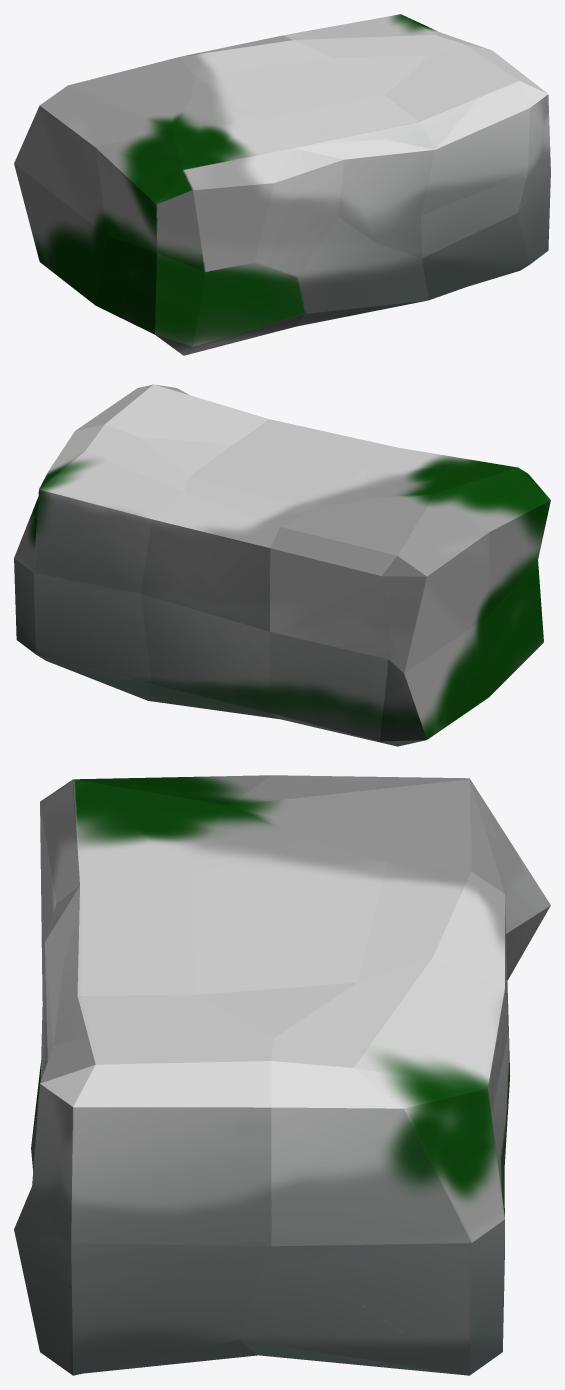
File: Prieda.fbx
3 renders of one model, top to bottom at view 1: azimuth 30°, elevation 25°; view 2: azimuth 150°, elevation 25°; view 3: azimuth 270°, elevation 25°, orthographic. The views are drawn at different scales.
Parts seen in each view (by area): view 1: Cubo.016; view 2: Cubo.016; view 3: Cubo.016.
Boxes of the visible parts, box(x1,y1,x2,y2) form: Cubo.016: box(14, 14, 550, 355); Cubo.016: box(14, 384, 550, 746); Cubo.016: box(14, 775, 550, 1375).
Bounding box in the file's own units: 215 × 102 × 145.
